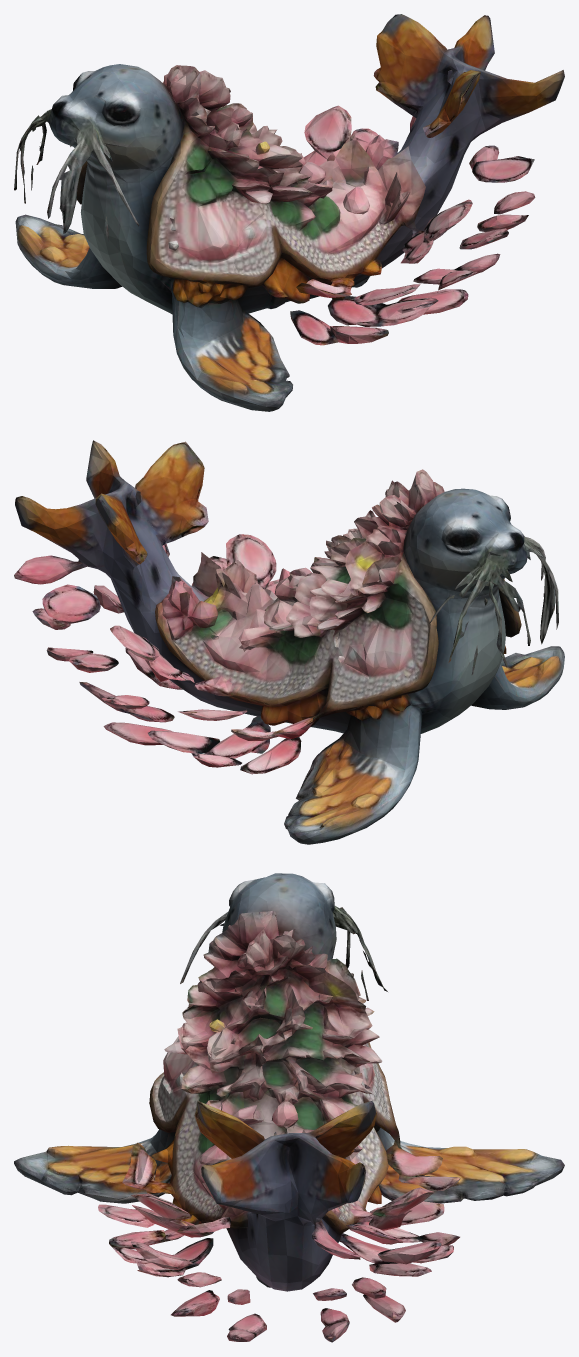
File: selkira__lotusSelkie.glb
3 views of the same model, one above another, from view 1: azimuth 30°, elevation 25°; view 2: azimuth 150°, elevation 25°; view 3: azimuth 270°, elevation 25° (orthographic). The views are drawn at different scales.
Visible parts, largest first — view 1: world; view 2: world; view 3: world.
Part boxes in pixels (x1=…): world: x1=14, y1=14, x2=564, y2=411; world: x1=14, y1=440, x2=564, y2=844; world: x1=14, y1=873, x2=564, y2=1342.
Size of the model in its own units: 0.9944 by 0.528 by 0.8924.
Materials: 1 (1 with a texture image).
